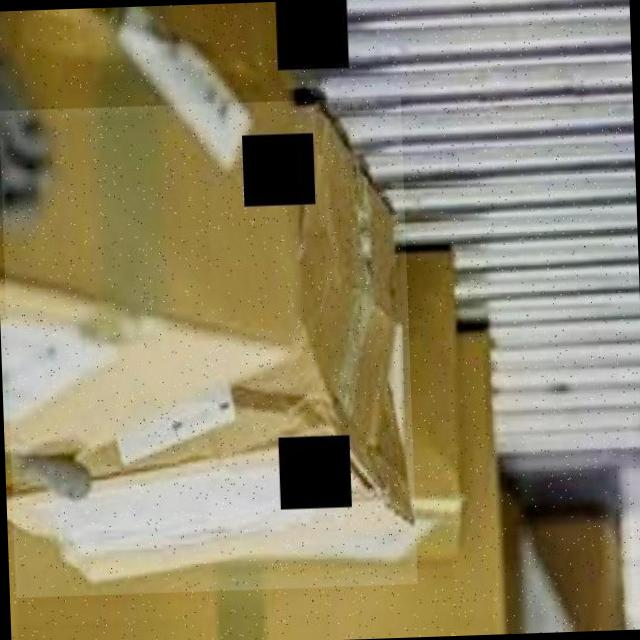box: (0, 96, 417, 597)
